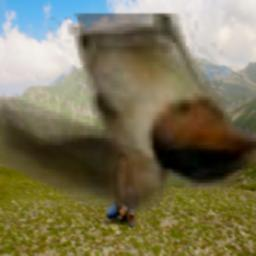Swallow: (0, 13, 256, 213)
